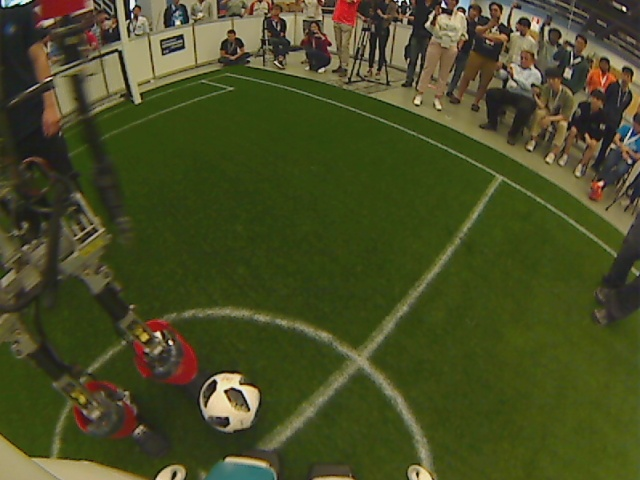ball: (196, 368, 263, 436)
